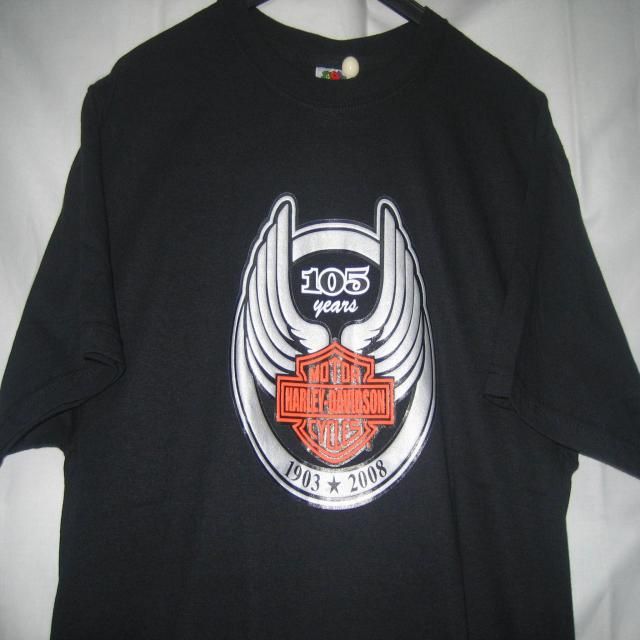T-shirt: (8, 6, 640, 640)
